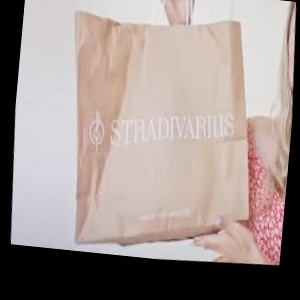stradivarius: (204, 46, 282, 158)
